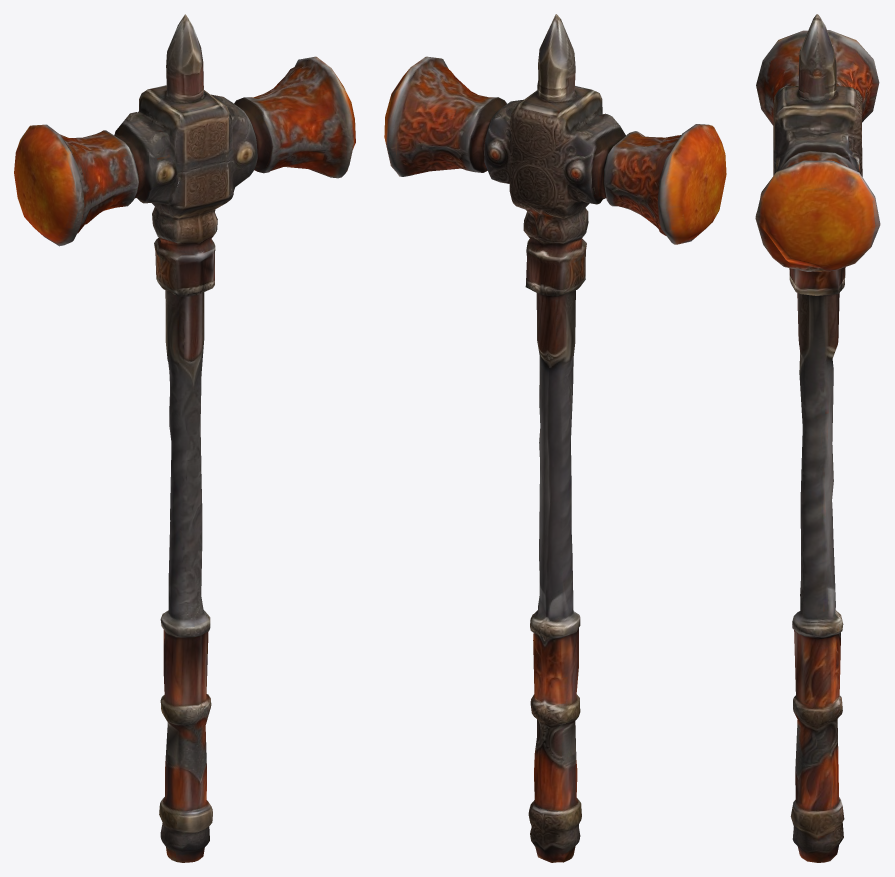
File: 1500_hammer.glb
3 renders of one model, left to right at view 1: azimuth 30°, elevation 25°; view 2: azimuth 150°, elevation 25°; view 3: azimuth 270°, elevation 25°, orthographic.
Visible parts, largest first — view 1: Model; view 2: Model; view 3: Model.
Part boxes in pixels (<box>): Model: <box>14,14,355,862</box>; Model: <box>384,14,726,862</box>; Model: <box>755,14,880,862</box>.
Size of the model in its own units: 0.3743 by 1 by 0.1346.
1 material, 1 textured.
